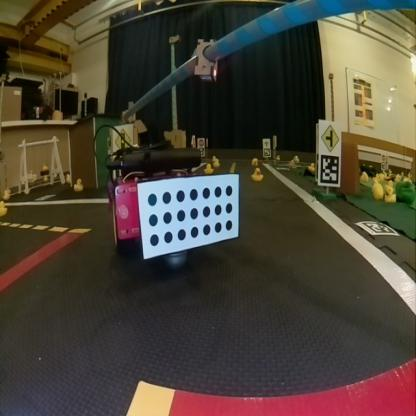duckie: (71, 174, 86, 195), (252, 163, 265, 187)
duckiebot: (88, 121, 248, 270)
